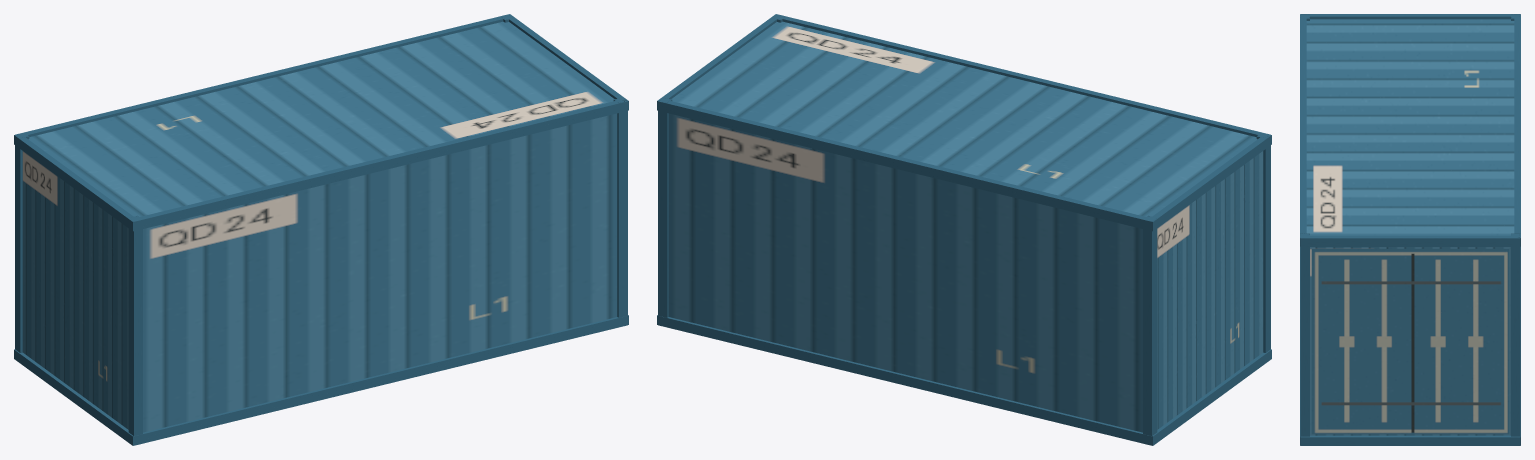
The model's file is SM_QD_Container_Blue.fbx.
The picture shows the model from 3 angles, left to right: view 1: azimuth 30°, elevation 25°; view 2: azimuth 150°, elevation 25°; view 3: azimuth 270°, elevation 25°; orthographic projection. The views are drawn at different scales.
Parts seen in each view (by area): view 1: SM_QD_Container_Blue; view 2: SM_QD_Container_Blue; view 3: SM_QD_Container_Blue.
Boxes of the visible parts, bbox=[...] form: SM_QD_Container_Blue: bbox=[14, 14, 628, 445]; SM_QD_Container_Blue: bbox=[657, 14, 1271, 445]; SM_QD_Container_Blue: bbox=[1300, 14, 1520, 445].
Bounding box in the file's own units: 6.03 × 2.51 × 2.6.
Materials: 1 (1 with a texture image).
